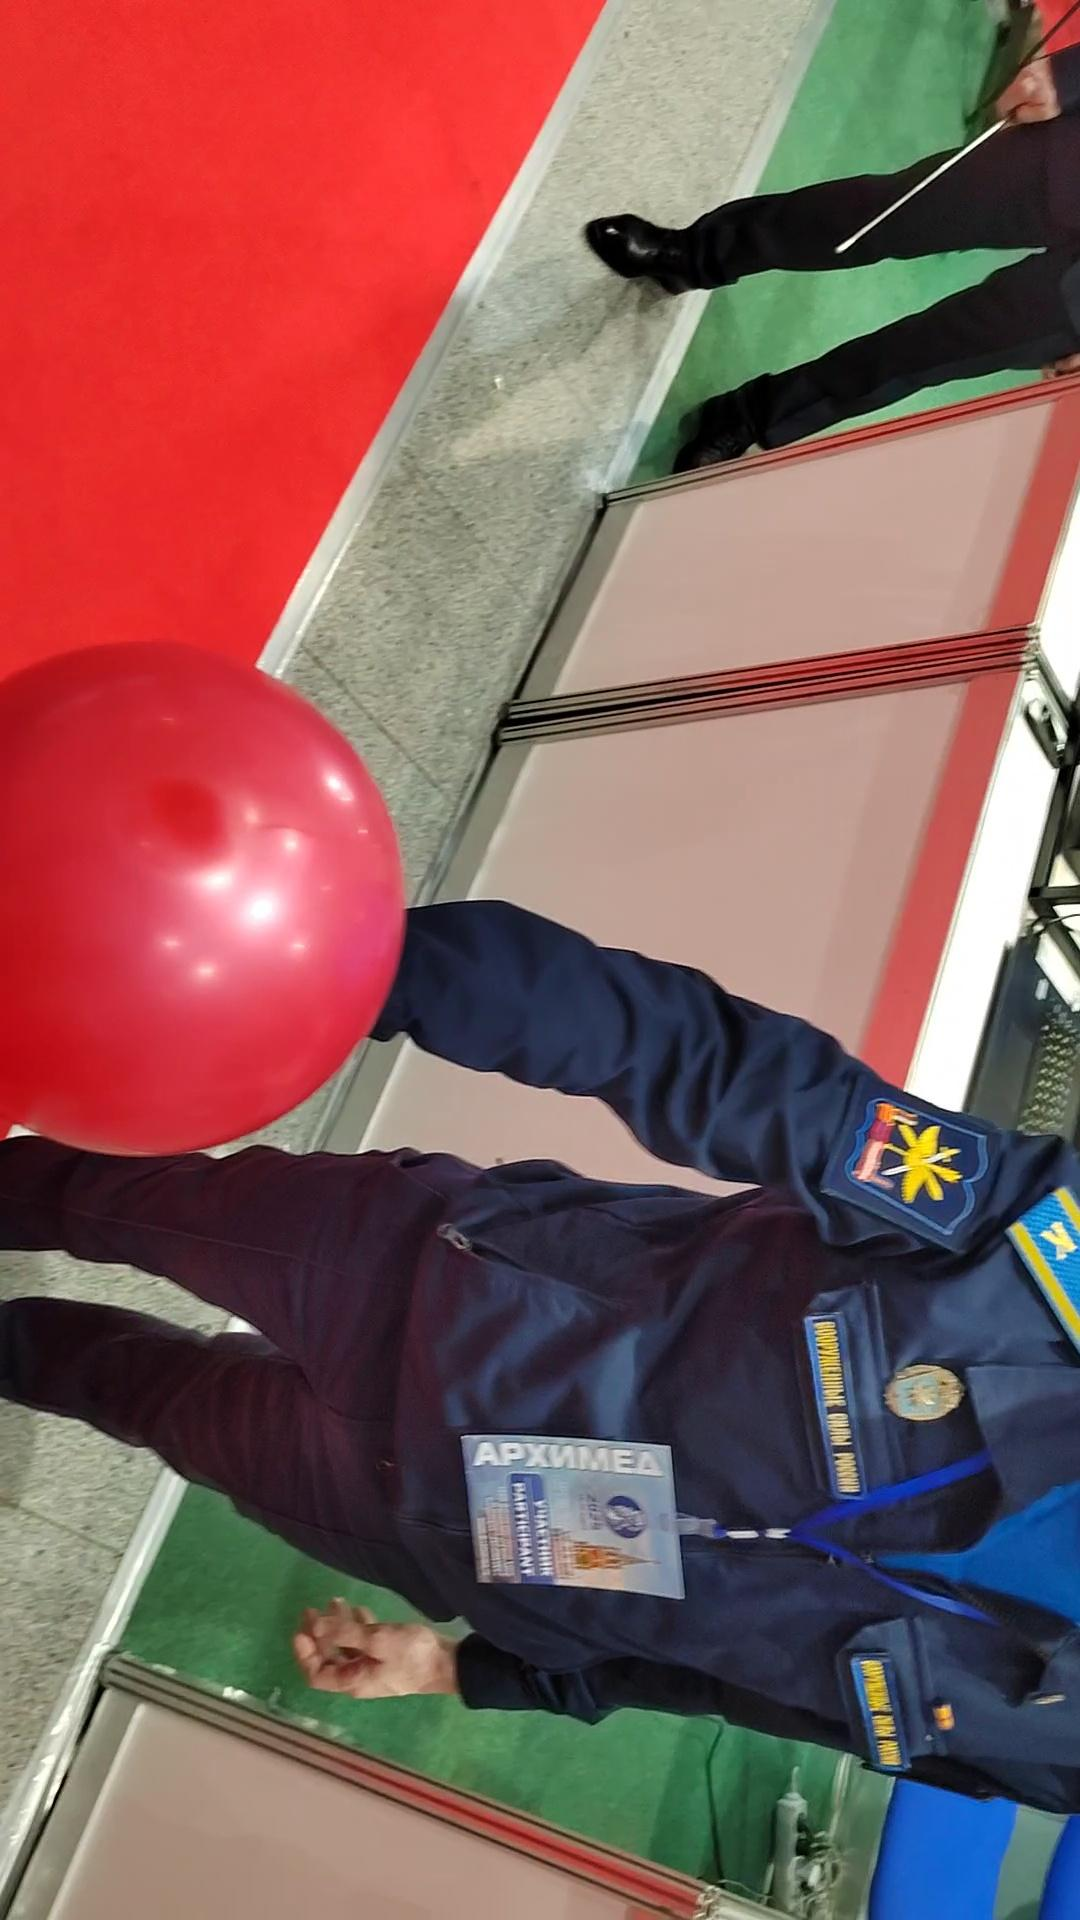red: (0, 630, 417, 1174)
